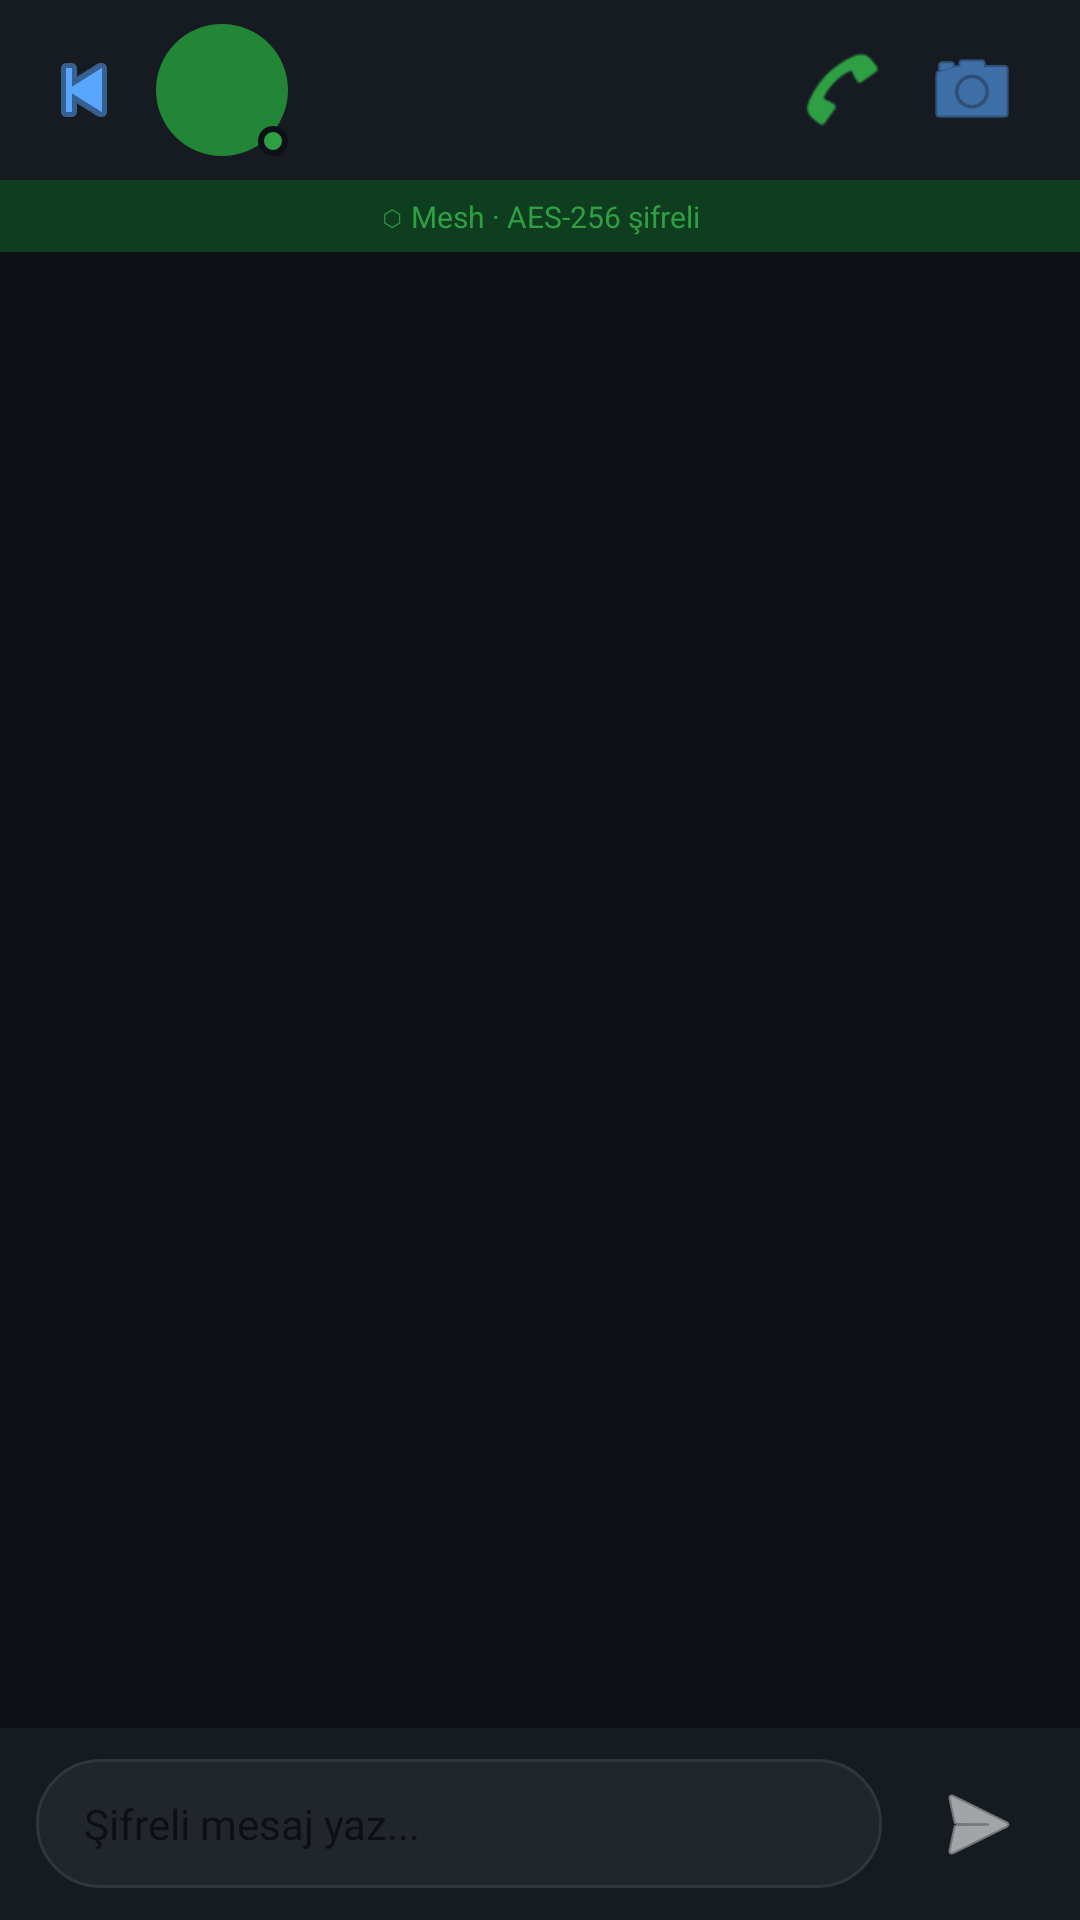

Screen size 1080x1920. Icon name, then its box in pixels as (x1, y1, x2, y2):
Geri: (61, 63, 107, 117)
Gönder: (948, 1794, 1010, 1855)
Görüntülü ara: (935, 59, 1009, 118)
Sesli ara: (807, 54, 878, 126)
